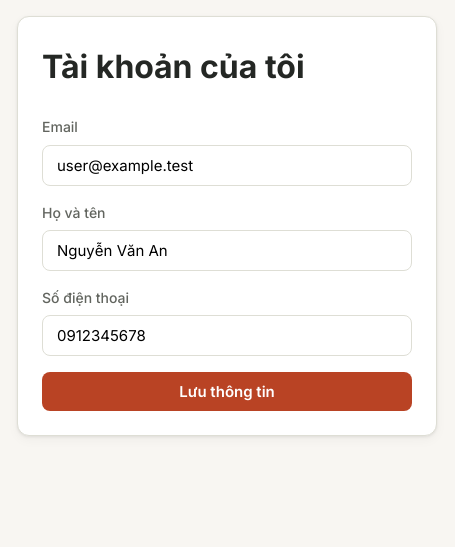
it: profile shows a duplicate-phone rejection and leaves the form available
The width and height of the screenshot is (455, 547).
Type "+84 934 567 890" into the field labelled "Số điện thoại".
click(227, 336); type("+84 934 567 890")  # box [42,315,412,356]
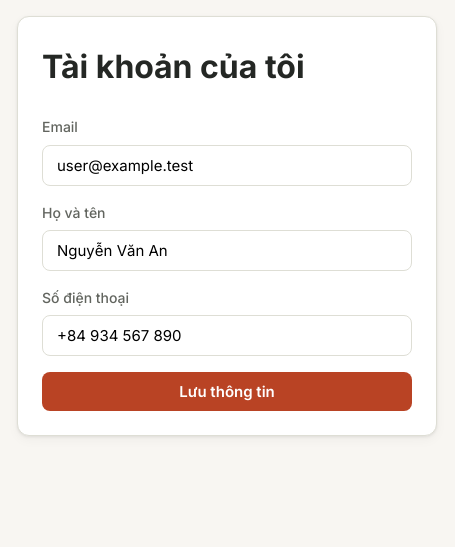
Click the button "Lưu thông tin".
click(227, 392)  # box [42,372,412,411]
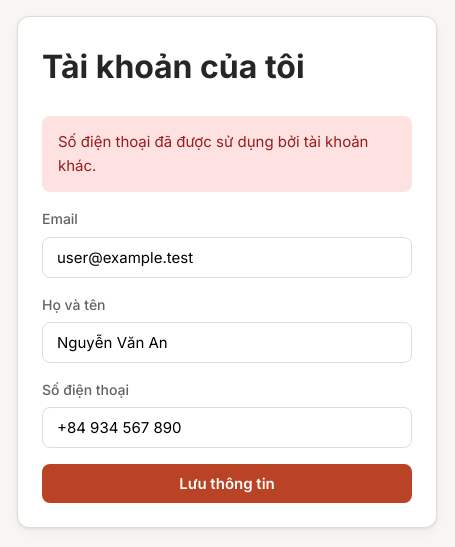
Expected: the text "Số điện thoại đã được sử dụng bởi tài khoản khác." is shown, [42,116,412,192]
